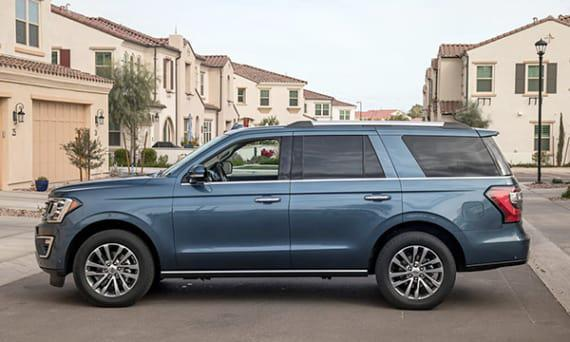car: (26, 106, 539, 314)
